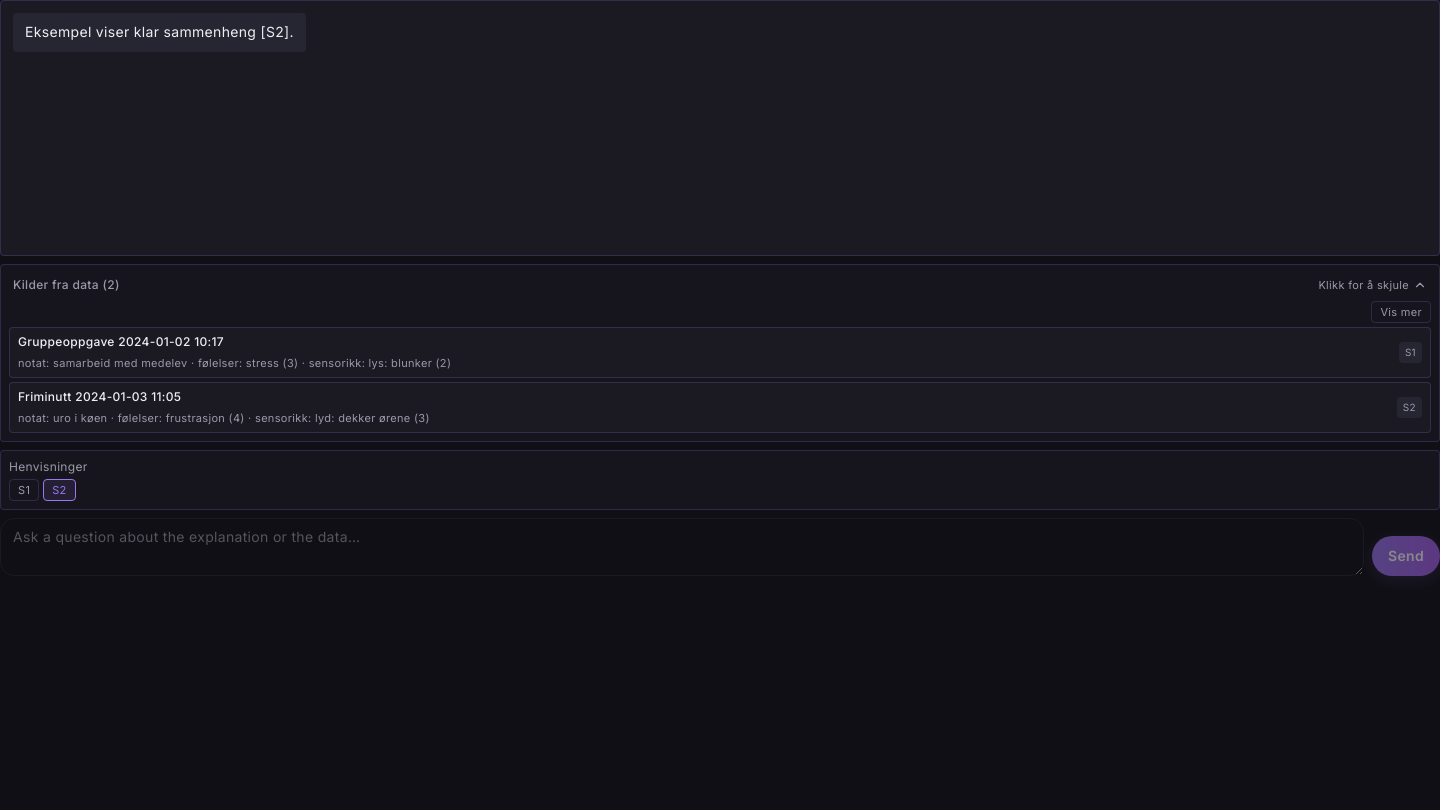
Test: ExplanationChat citations and drawer › highlights and maps [S2] citation to clickable button
Check: the text "Henvisninger" is shown, box [9, 459, 88, 474]
// Click S2 to open details
Click the button named "henvisning S2". click: coordinates (59, 490)
box: [43, 479, 76, 501]
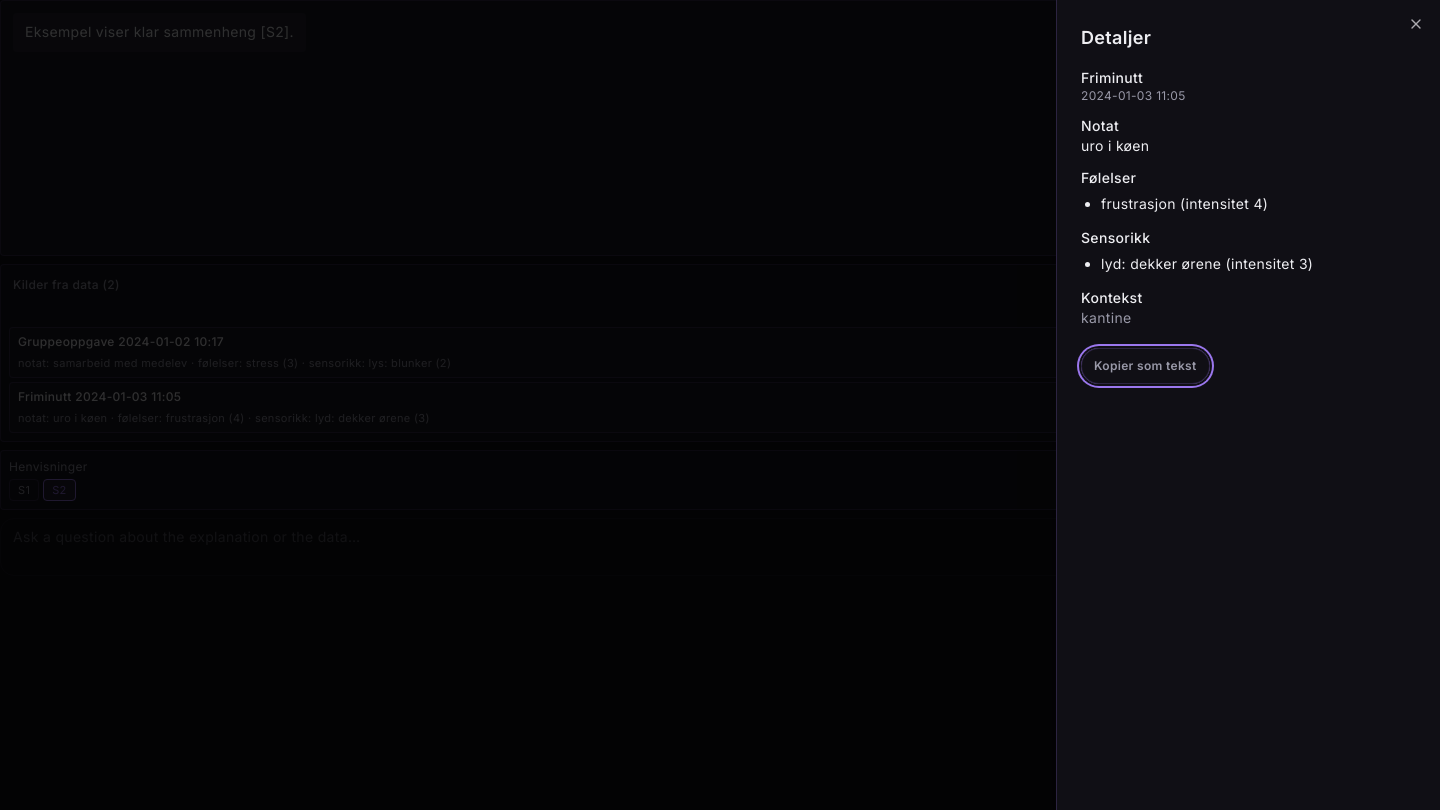
Check: the heading "Detaljer" is shown, box [1081, 27, 1151, 48]
